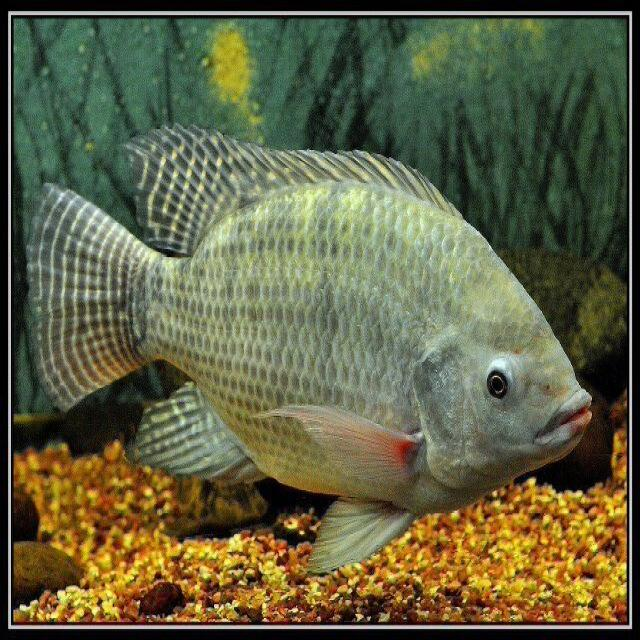ikan: (30, 80, 610, 588)
